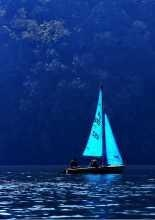fanchuan: (64, 85, 128, 176)
